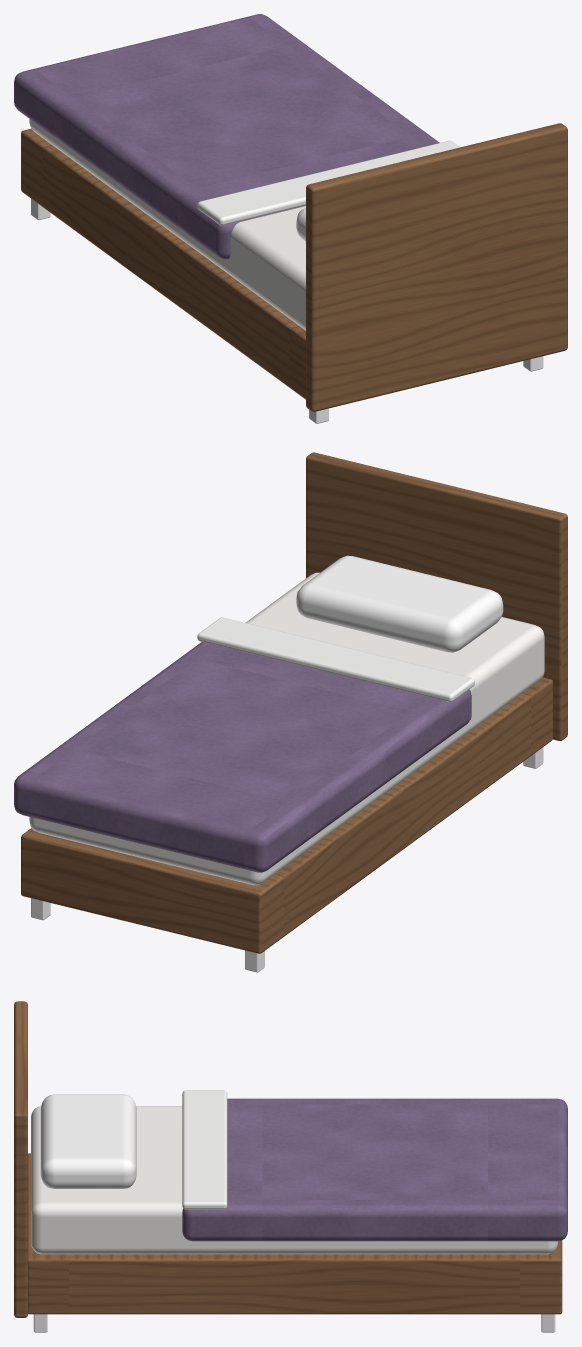
The model's file is mueble.cama_adulto.fbx.
The picture shows the model from 3 angles, top to bottom: view 1: azimuth 30°, elevation 25°; view 2: azimuth 150°, elevation 25°; view 3: azimuth 270°, elevation 25°; orthographic projection. The views are drawn at different scales.
Parts seen in each view (by area): view 1: Cabecera, Frazada, Base, Colchon, Sabana doblada; view 2: Frazada, Base, Cabecera, Colchon, Almohada, Sabana doblada; view 3: Frazada, Base, Colchon, Almohada, Sabana doblada, Cabecera.
Part boxes in pixels (x1,y1,x2,y2): Cabecera: [306, 123, 567, 411]; Frazada: [14, 14, 439, 259]; Base: [21, 128, 305, 399]; Colchon: [29, 119, 305, 330]; Sabana doblada: [197, 140, 459, 225]; Frazada: [14, 642, 471, 872]; Base: [21, 677, 552, 953]; Cabecera: [306, 452, 567, 740]; Colchon: [29, 572, 544, 885]; Almohada: [296, 555, 503, 652]; Sabana doblada: [197, 617, 474, 702]; Frazada: [182, 1098, 567, 1241]; Base: [28, 1153, 562, 1314]; Colchon: [31, 1106, 557, 1254]; Almohada: [40, 1094, 136, 1188]; Sabana doblada: [182, 1090, 227, 1209]; Cabecera: [14, 1001, 27, 1317].
Size of the model in its own units: 0.96 by 0.88 by 1.97.
Materials: 6 (2 with a texture image).
